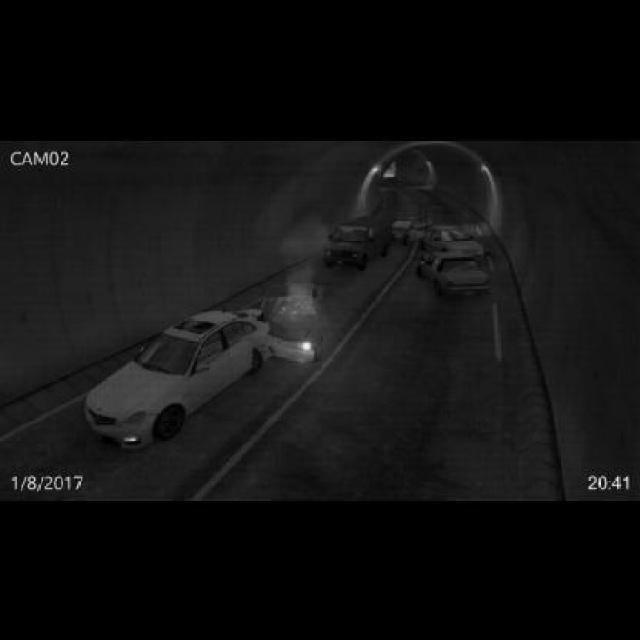accident: (88, 278, 326, 447), (416, 225, 493, 305)
vehicle: (321, 208, 393, 269)
